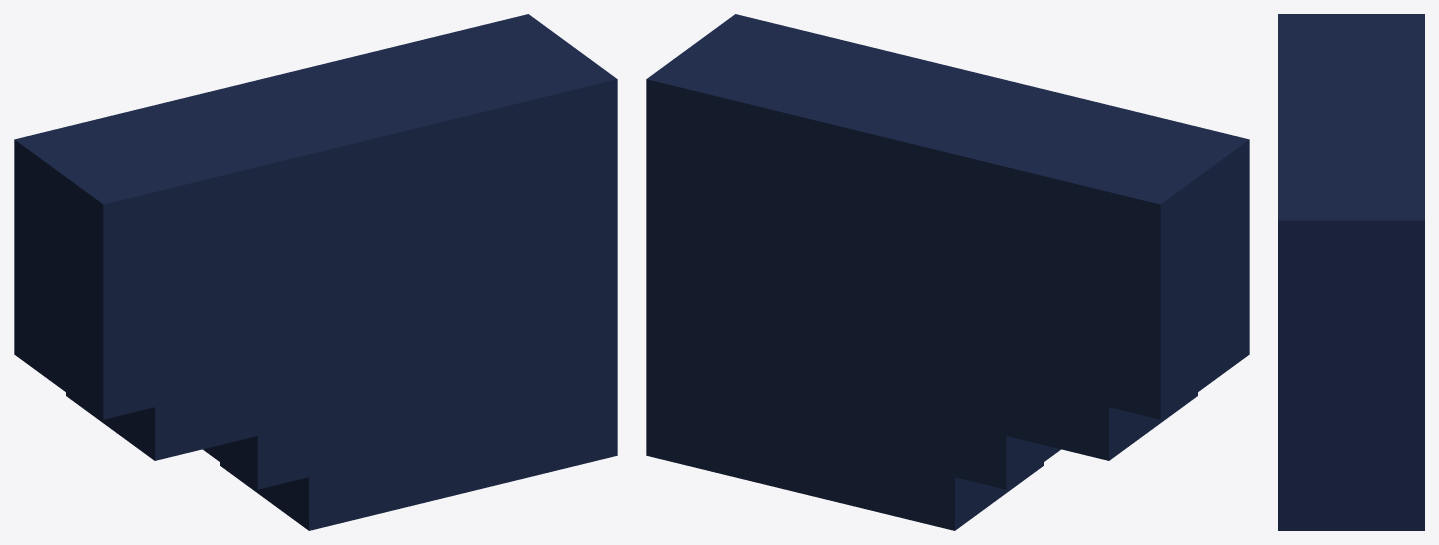
Rendered from touring_bike_side_cover.glb.
3 views of the same model, side by side, from view 1: azimuth 30°, elevation 25°; view 2: azimuth 150°, elevation 25°; view 3: azimuth 270°, elevation 25° (orthographic). The views are drawn at different scales.
Parts seen in each view (by area): view 1: body:compound; view 2: body:compound; view 3: body:compound.
Boxes of the visible parts, <box> form: body:compound: <box>14,14,617,530</box>; body:compound: <box>646,14,1249,530</box>; body:compound: <box>1278,14,1424,530</box>.
Bounding box in the file's own units: 0.3125 × 0.2188 × 0.0938.
